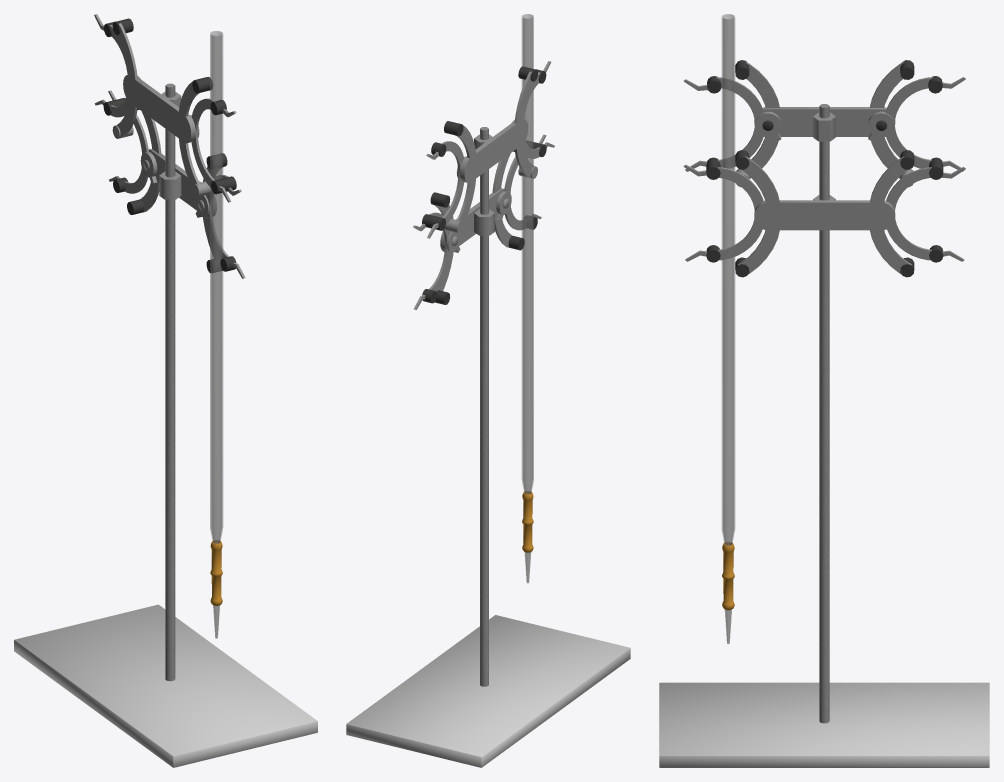
The model's file is SM_酸式滴定管组合.fbx.
3 renders of one model, left to right at view 1: azimuth 30°, elevation 25°; view 2: azimuth 150°, elevation 25°; view 3: azimuth 270°, elevation 25°, orthographic. The views are drawn at different scales.
Visible parts, largest first — view 1: SM_酸式滴定管组合; view 2: SM_酸式滴定管组合; view 3: SM_酸式滴定管组合.
Boxes of the visible parts, bbox=[...] form: SM_酸式滴定管组合: bbox=[14, 14, 317, 767]; SM_酸式滴定管组合: bbox=[346, 14, 630, 767]; SM_酸式滴定管组合: bbox=[659, 14, 989, 767].
Size of the model in its own units: 0.1798 by 0.8196 by 0.3425.
